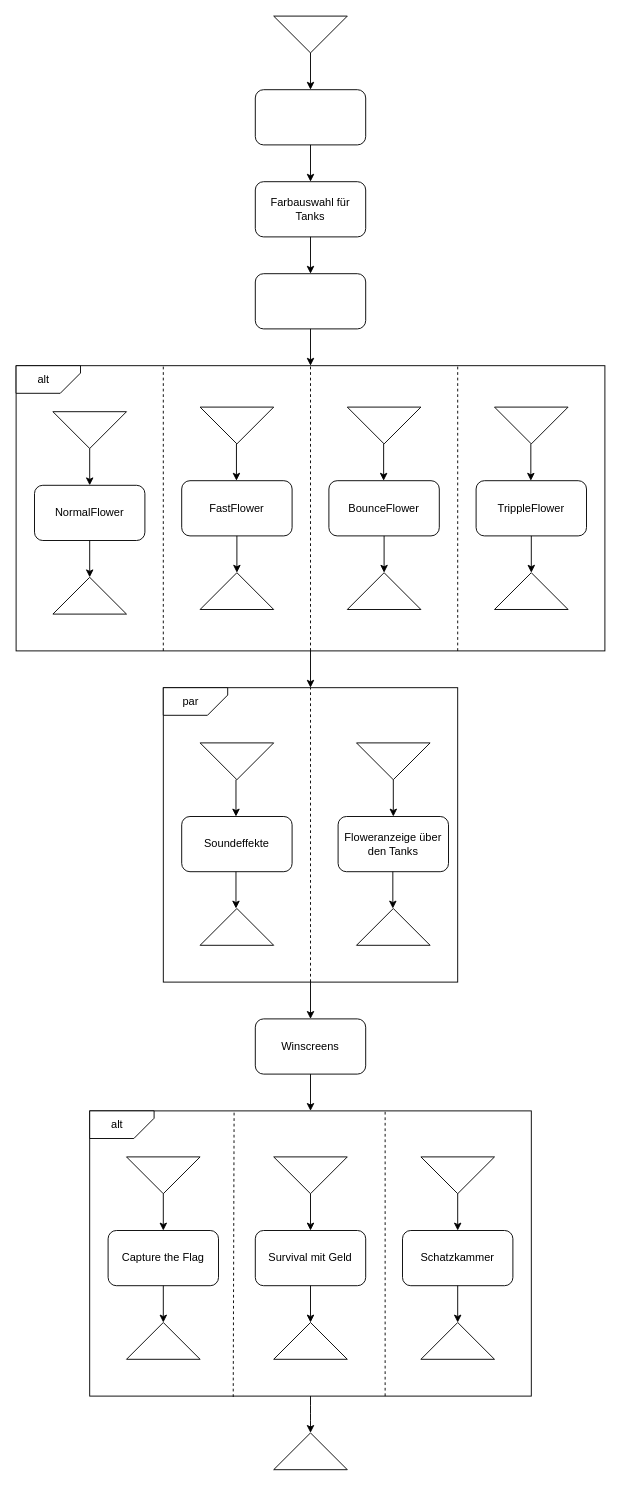
This 621x1486 diagram has some shape labels left out. The centre of each missing label's shape, as x and y in pixels:
Flower-Auswahl: the point at 310,301
Map-Auswahl: the point at 310,117
